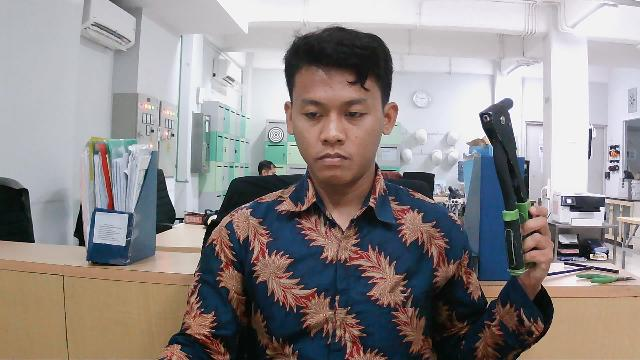tang_rivet: (469, 98, 554, 280)
